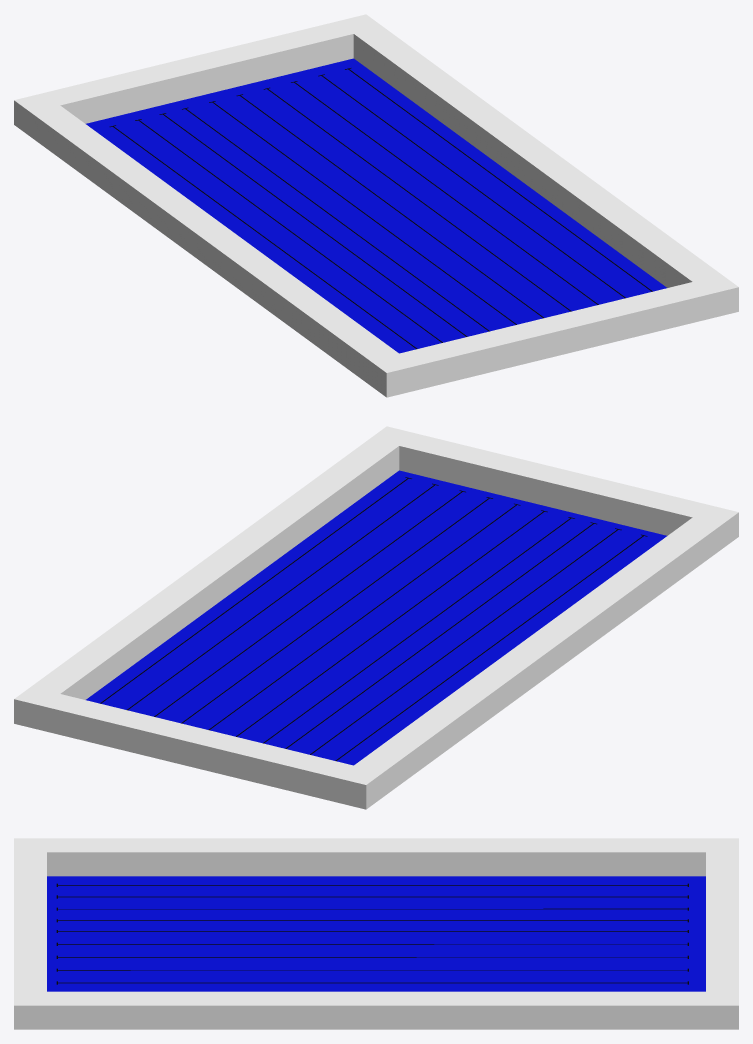
Rendered from pool.fbx.
The picture shows the model from 3 angles, top to bottom: view 1: azimuth 30°, elevation 25°; view 2: azimuth 150°, elevation 25°; view 3: azimuth 270°, elevation 25°; orthographic projection. The views are drawn at different scales.
Parts seen in each view (by area): view 1: pool; view 2: pool; view 3: pool.
Boxes of the visible parts, <box> form: pool: <box>14,14,738,397</box>; pool: <box>14,426,738,809</box>; pool: <box>14,838,738,1029</box>.
Bounding box in the file's own units: 3000 × 202 × 5500.
